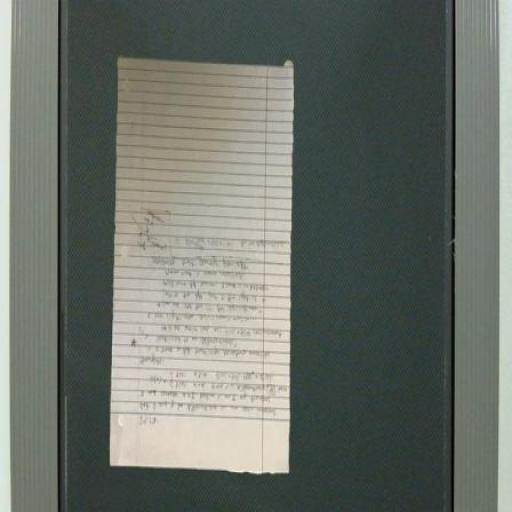paper: (97, 14, 317, 499)
